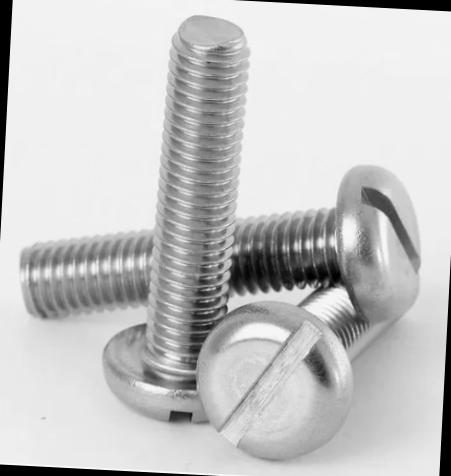slotted: (194, 302, 350, 467)
